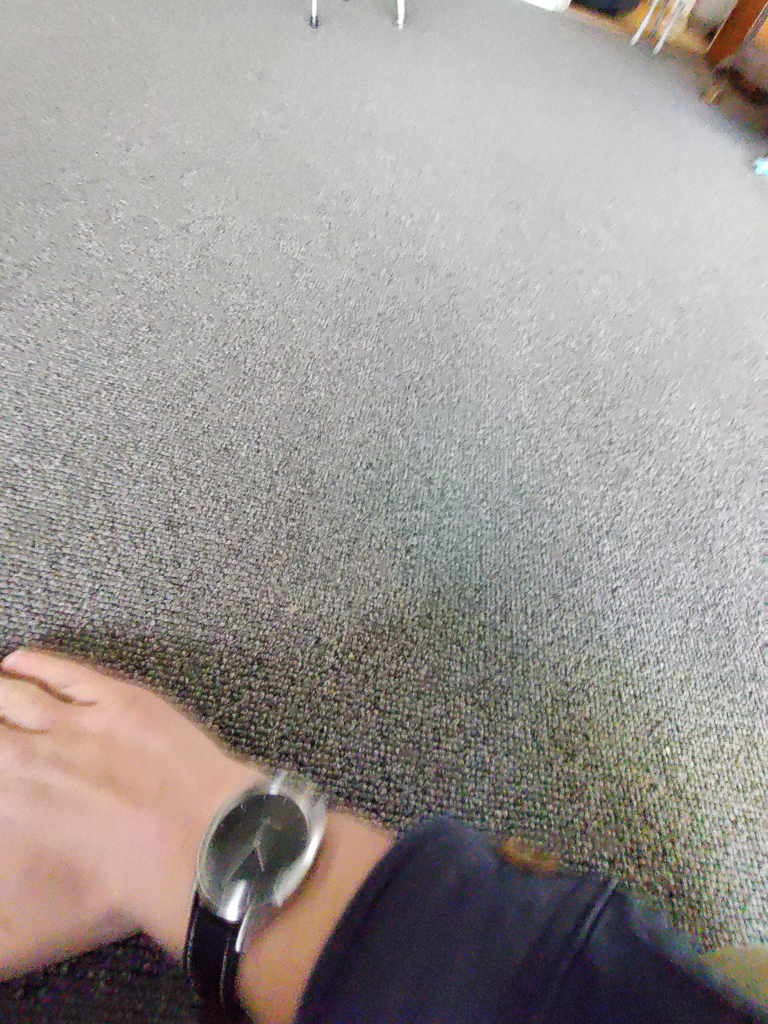Dog: (624, 0, 694, 68)
Humanoid: (0, 636, 768, 1024)
